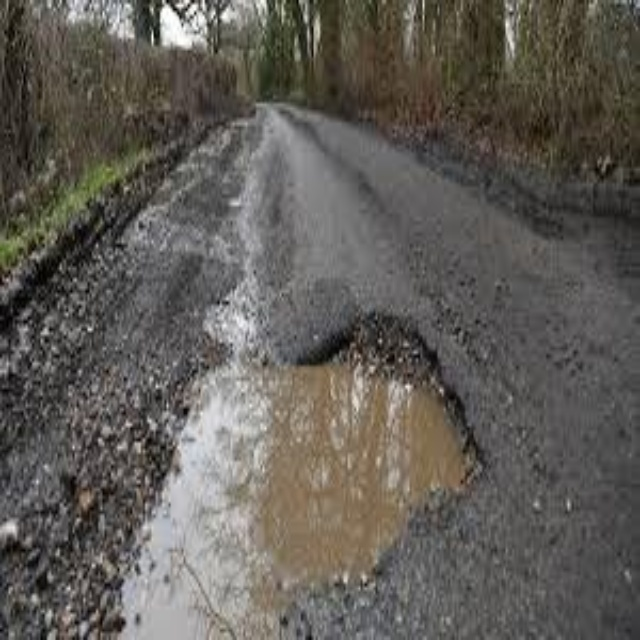pothole: (117, 301, 469, 640)
